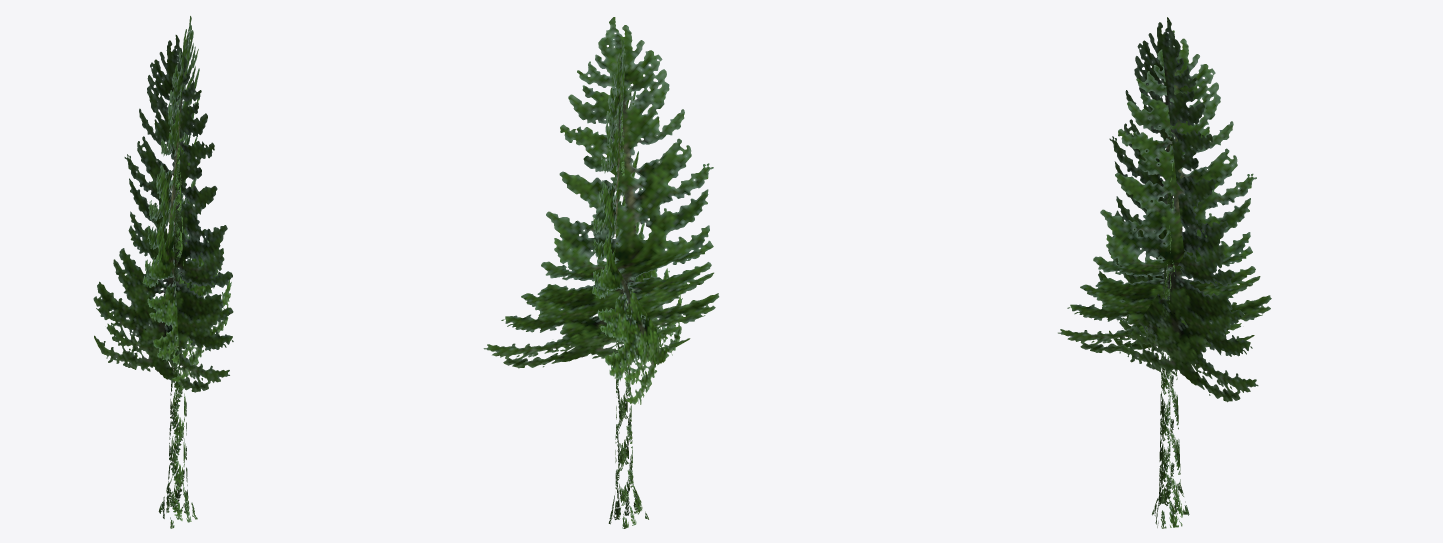
The model's file is psx_tree1.glb.
3 renders of one model, left to right at view 1: azimuth 30°, elevation 25°; view 2: azimuth 150°, elevation 25°; view 3: azimuth 270°, elevation 25°, orthographic.
Visible parts, largest first — view 1: _MeshInstance3D_9; view 2: _MeshInstance3D_9; view 3: _MeshInstance3D_9.
Part boxes in pixels (x1,y1,x2,y2): _MeshInstance3D_9: (93,16,233,528); _MeshInstance3D_9: (483,17,719,528); _MeshInstance3D_9: (1058,17,1271,528).
Size of the model in its own units: 9.5 by 13.02 by 11.43.
1 material, 1 textured.
